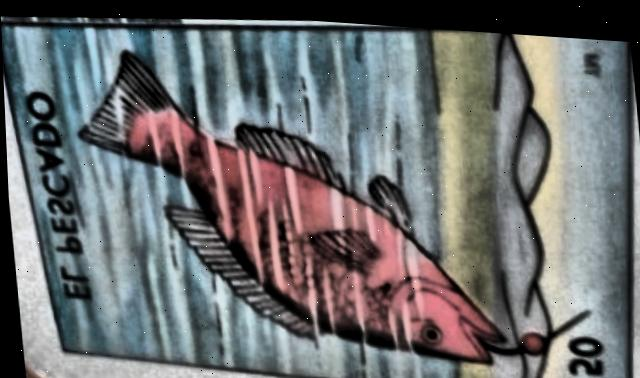El Pescado: (1, 23, 630, 378)
